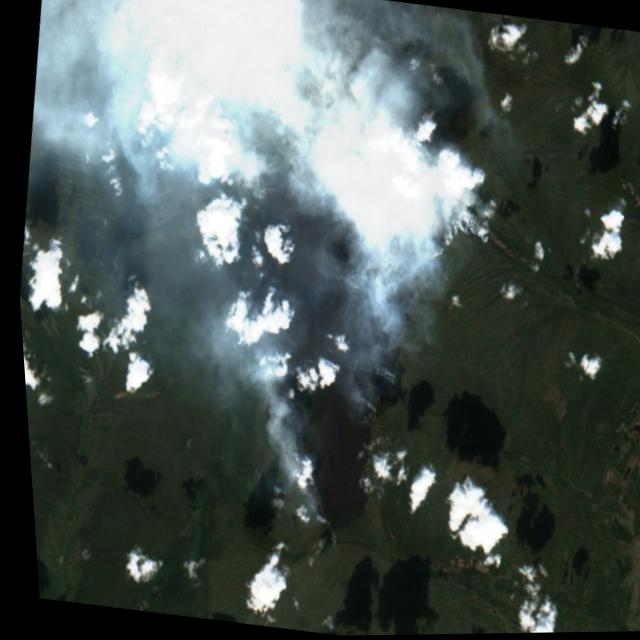fire: (148, 106, 524, 571)
